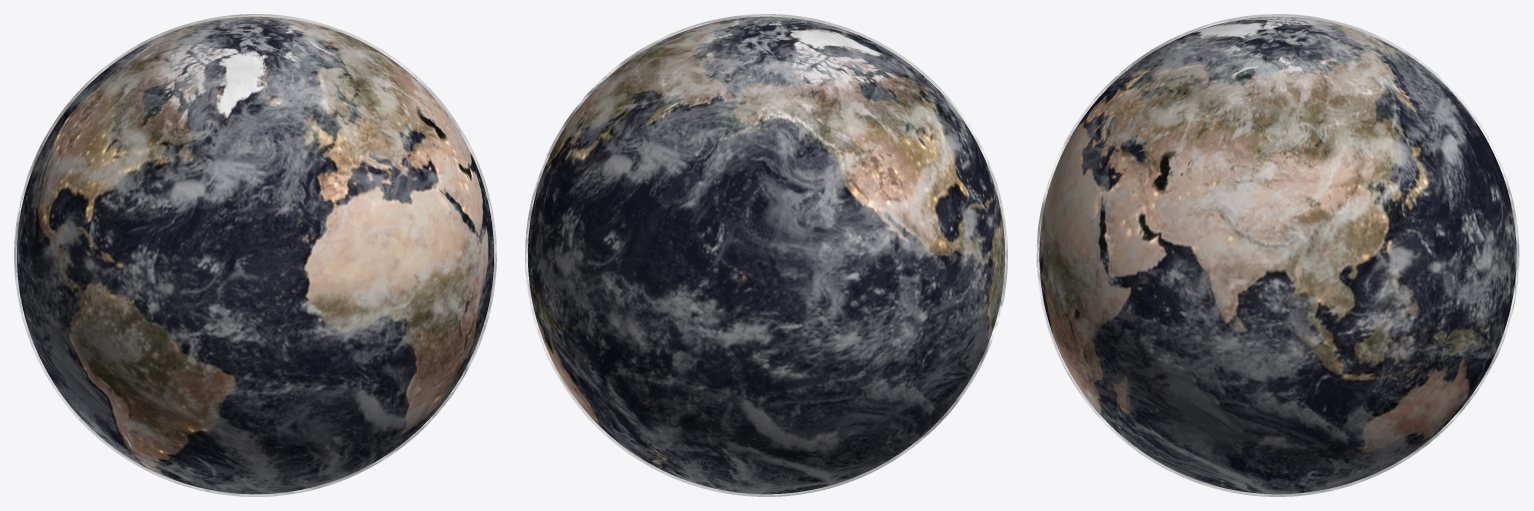
Rendered from Earth.glb.
3 renders of one model, left to right at view 1: azimuth 30°, elevation 25°; view 2: azimuth 150°, elevation 25°; view 3: azimuth 270°, elevation 25°, orthographic.
Visible parts, largest first — view 1: Object_3, Object_2; view 2: Object_3, Object_2; view 3: Object_3, Object_2.
Boxes of the visible parts, bbox=[...] form: Object_3: bbox=[17, 16, 493, 494]; Object_2: bbox=[14, 14, 496, 496]; Object_3: bbox=[528, 16, 1004, 494]; Object_2: bbox=[525, 14, 1007, 496]; Object_3: bbox=[1039, 16, 1516, 494]; Object_2: bbox=[1036, 14, 1519, 496].
Size of the model in its own units: 2.07 by 2.07 by 2.07.
2 materials, 2 textured.
